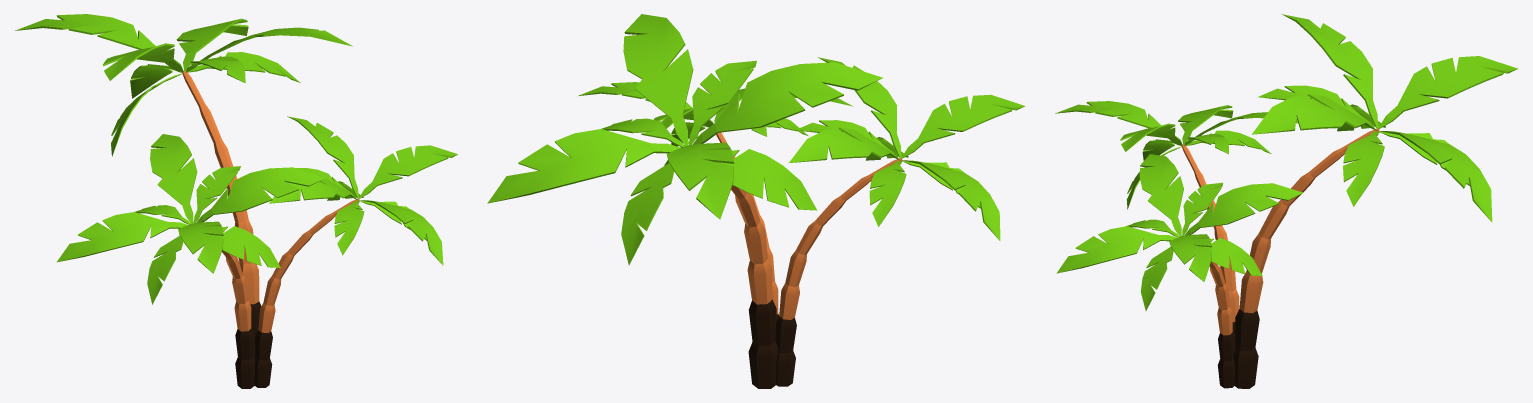
Rendered from Triple_palm.fbx.
3 views of the same model, side by side, from view 1: azimuth 30°, elevation 25°; view 2: azimuth 150°, elevation 25°; view 3: azimuth 270°, elevation 25° (orthographic). The views are drawn at different scales.
Visible parts, largest first — view 1: Trunk001, Trunk, Trunk002; view 2: Trunk, Trunk001, Trunk002; view 3: Trunk, Trunk002, Trunk001.
Part boxes in pixels (bbox=[...]): Trunk001: bbox=[57, 134, 325, 388]; Trunk: bbox=[15, 14, 352, 358]; Trunk002: bbox=[254, 116, 457, 387]; Trunk: bbox=[487, 14, 882, 388]; Trunk001: bbox=[775, 57, 1025, 386]; Trunk002: bbox=[577, 82, 853, 320]; Trunk: bbox=[1233, 14, 1518, 388]; Trunk002: bbox=[1056, 154, 1302, 388]; Trunk001: bbox=[1055, 101, 1298, 346].
Bounding box in the file's own units: 564 × 452 × 590.
